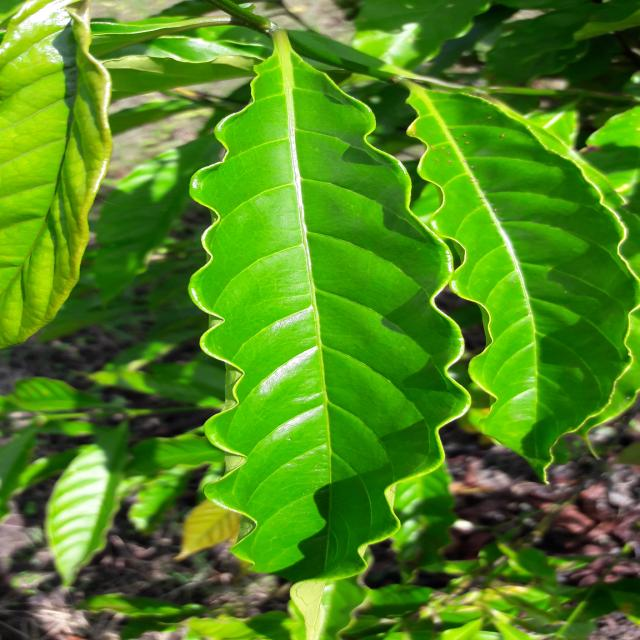Sanas: (187, 32, 494, 587)
